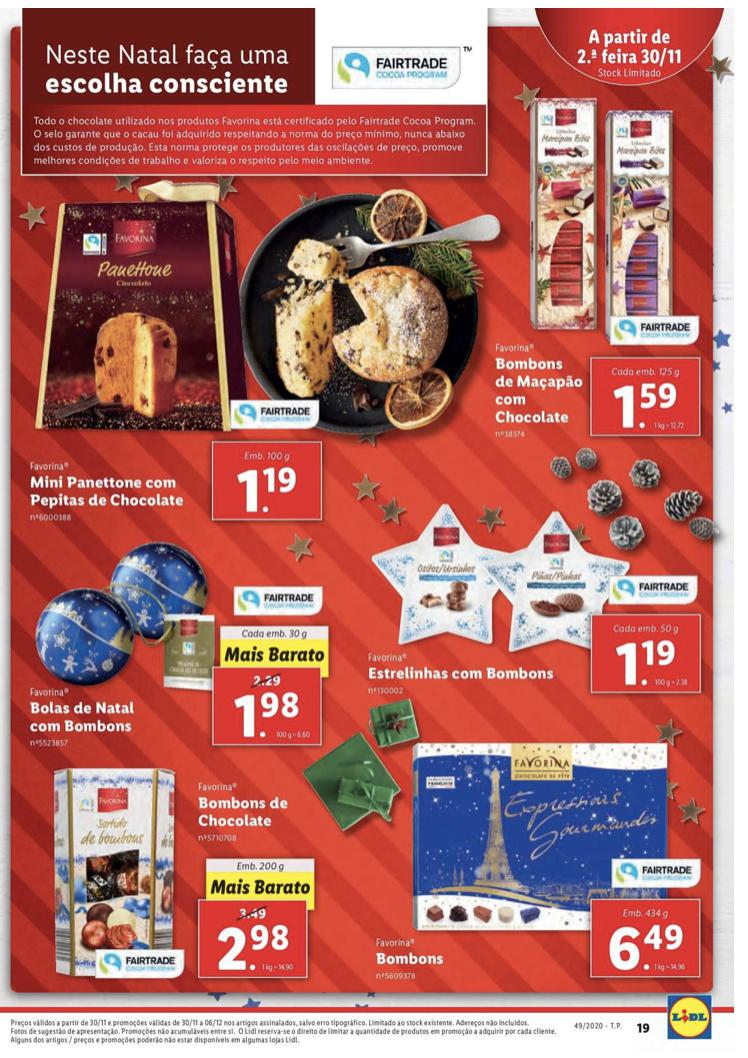name: (492, 353, 586, 424), (28, 472, 187, 510), (363, 662, 562, 687), (24, 699, 139, 735), (196, 793, 292, 830), (368, 949, 447, 974)
price: (230, 688, 309, 742), (604, 922, 686, 974), (216, 922, 293, 972), (236, 464, 303, 517), (613, 635, 678, 687), (613, 384, 682, 428)
product: (21, 181, 341, 529), (350, 718, 714, 997), (495, 85, 707, 455), (353, 485, 717, 700), (21, 535, 328, 774), (20, 756, 324, 991)
